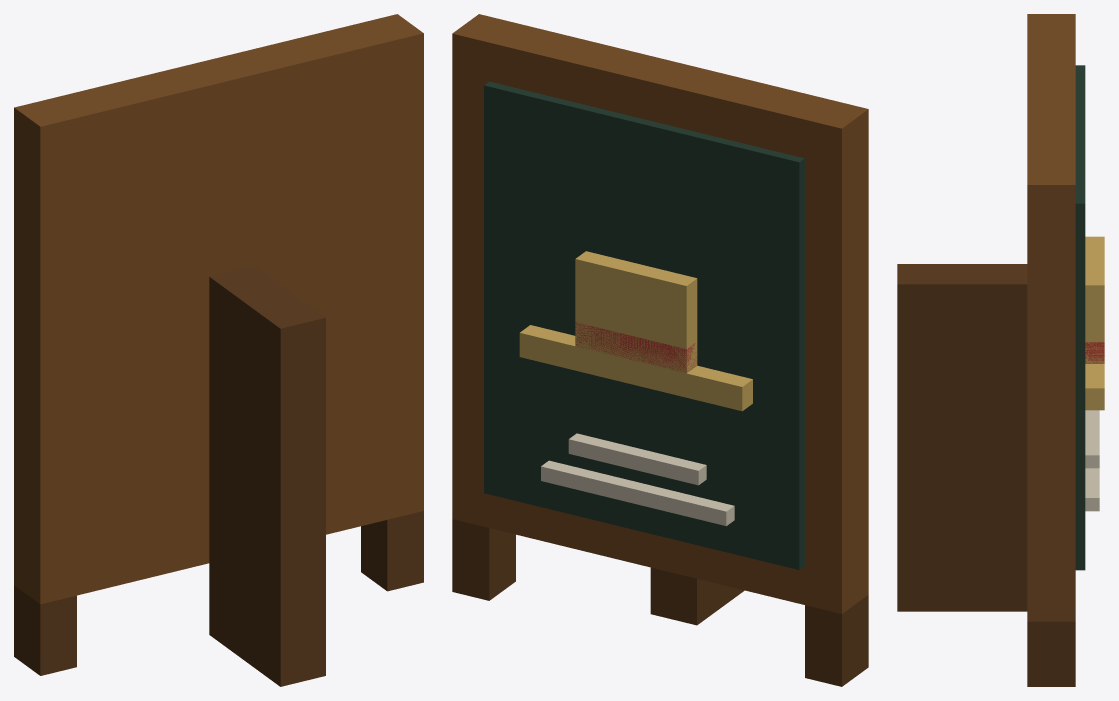
The model's file is cp-chalkboard-hat.glb.
3 views of the same model, side by side, from view 1: azimuth 30°, elevation 25°; view 2: azimuth 150°, elevation 25°; view 3: azimuth 270°, elevation 25° (orthographic). The views are drawn at different scales.
Parts seen in each view (by area): view 1: box-prop; view 2: box-prop; view 3: box-prop.
Part boxes in pixels (x1=…): box-prop: x1=14, y1=14, x2=423, y2=686; box-prop: x1=452, y1=14, x2=868, y2=686; box-prop: x1=897, y1=14, x2=1104, y2=686.
Size of the model in its own units: 0.84 by 1.15 by 0.43.
